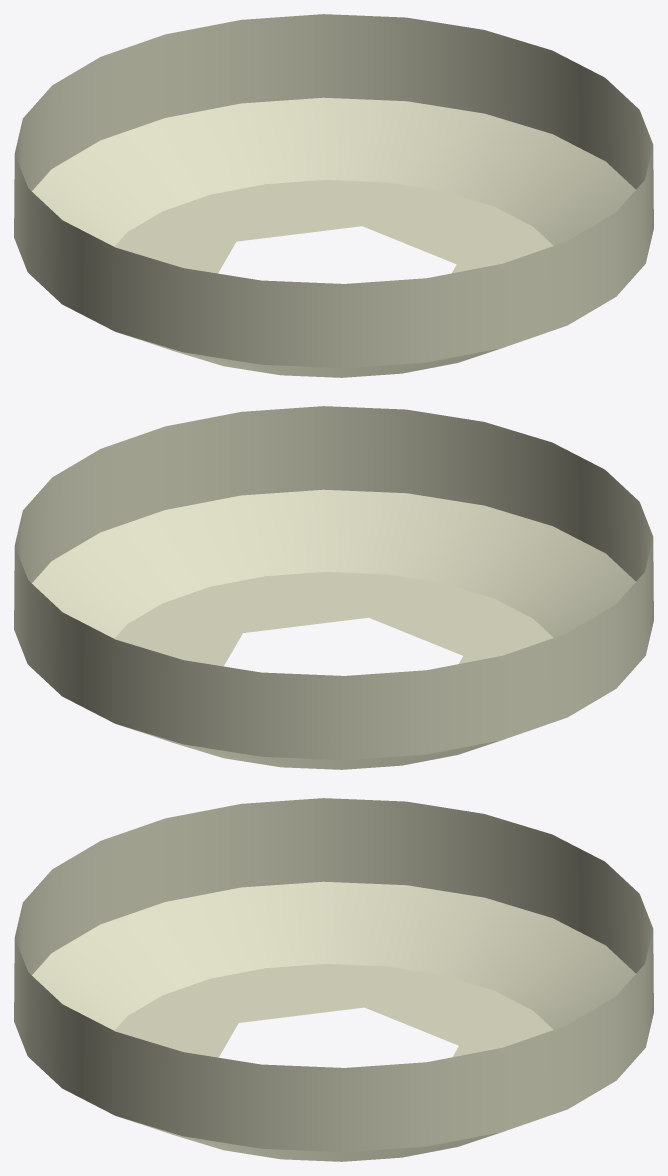
The model's file is original-102.obj.
3 views of the same model, one above another, from view 1: azimuth 30°, elevation 25°; view 2: azimuth 150°, elevation 25°; view 3: azimuth 270°, elevation 25° (orthographic).
Parts seen in each view (by area): view 1: #ID481; view 2: #ID481; view 3: #ID481.
Boxes of the visible parts, x1,y1,x2,y2 form: #ID481: (14, 14, 653, 377); #ID481: (14, 406, 653, 769); #ID481: (14, 798, 653, 1161).
Bounding box in the file's own units: 0.0799 × 0.0179 × 0.0799.
